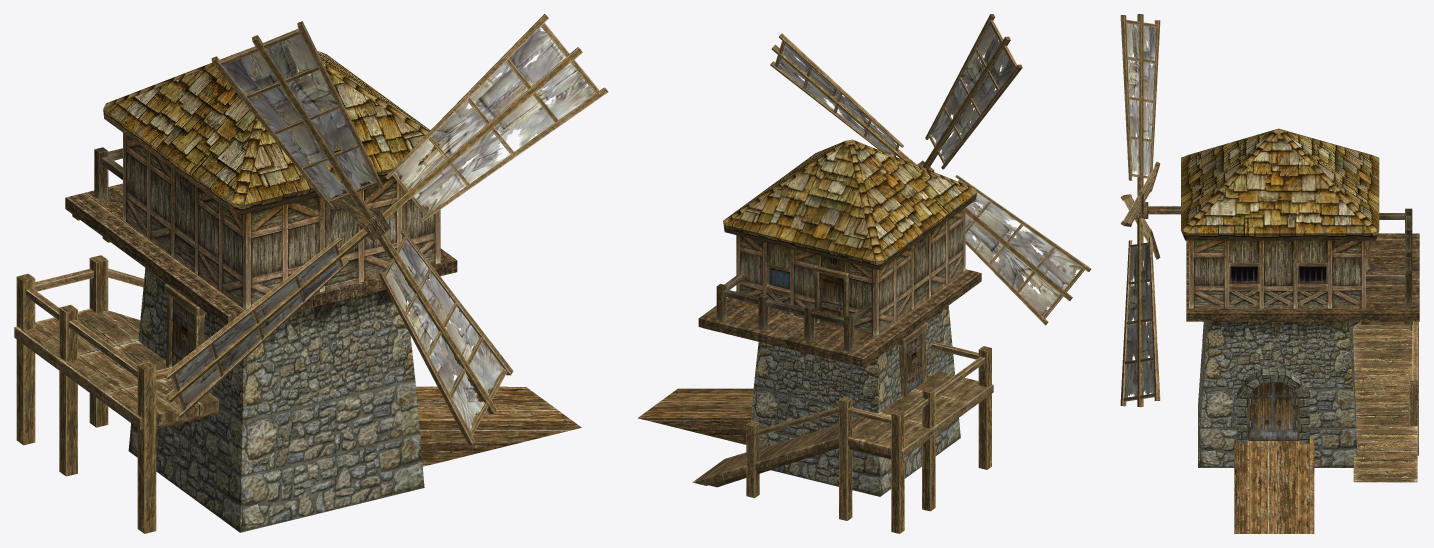
File: mel_1.glb
The picture shows the model from 3 angles, left to right: view 1: azimuth 30°, elevation 25°; view 2: azimuth 150°, elevation 25°; view 3: azimuth 270°, elevation 25°; orthographic projection. The views are drawn at different scales.
Parts seen in each view (by area): view 1: mel_1; view 2: mel_1; view 3: mel_1.
Boxes of the visible parts, left/top/right/bottom form: mel_1: left=14, top=14, right=608, bottom=533; mel_1: left=638, top=14, right=1091, bottom=533; mel_1: left=1120, top=14, right=1419, bottom=533.
Bounding box in the file's own units: 17.04 × 18.09 × 12.42.
Materials: 21 (21 with a texture image).
